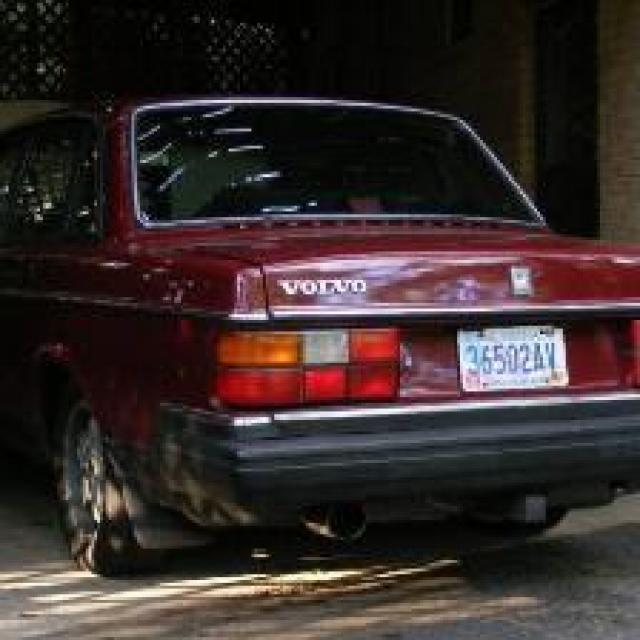damaged: (362, 262, 638, 418)
